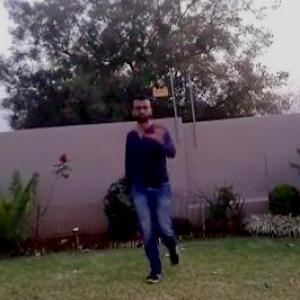follow_hand: (146, 115, 172, 144)
